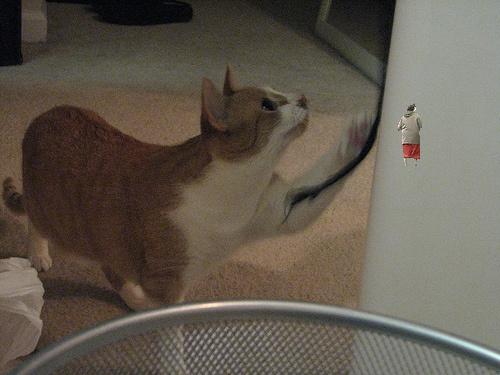tampered: (399, 104, 422, 166)
